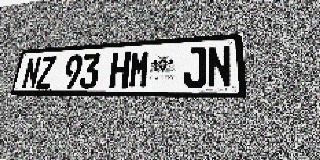3: (79, 53, 101, 89)
9: (62, 54, 84, 89)
H: (109, 51, 131, 88)
J: (183, 47, 206, 88)
M: (128, 50, 151, 88)
N: (207, 45, 232, 88), (21, 57, 42, 89)
Z: (35, 56, 56, 89)
